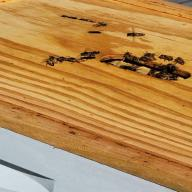Bee: (116, 26, 151, 41), (117, 50, 145, 66), (42, 53, 63, 70), (171, 54, 192, 66), (161, 48, 173, 62)
